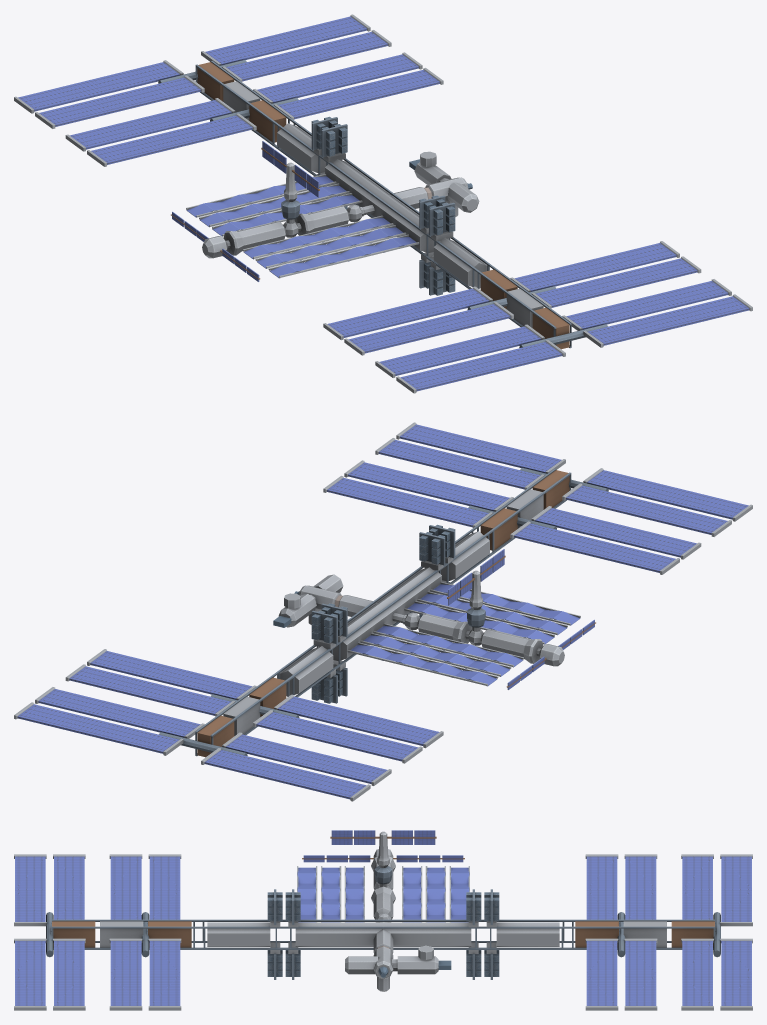
Rendered from International Space Station by Poly by Google - d3Fq5H6ne8E.fbx.
The picture shows the model from 3 angles, top to bottom: view 1: azimuth 30°, elevation 25°; view 2: azimuth 150°, elevation 25°; view 3: azimuth 270°, elevation 25°; orthographic projection. The views are drawn at different scales.
Parts seen in each view (by area): view 1: InternationalSpaceStation_mesh; view 2: InternationalSpaceStation_mesh; view 3: InternationalSpaceStation_mesh.
Part boxes in pixels (x1=…): InternationalSpaceStation_mesh: x1=14, y1=14, x2=752, y2=393; InternationalSpaceStation_mesh: x1=14, y1=422, x2=752, y2=801; InternationalSpaceStation_mesh: x1=14, y1=830, x2=752, y2=1010.
Size of the model in its own units: 2806 by 851 by 5590.
Materials: 1 (1 with a texture image).
